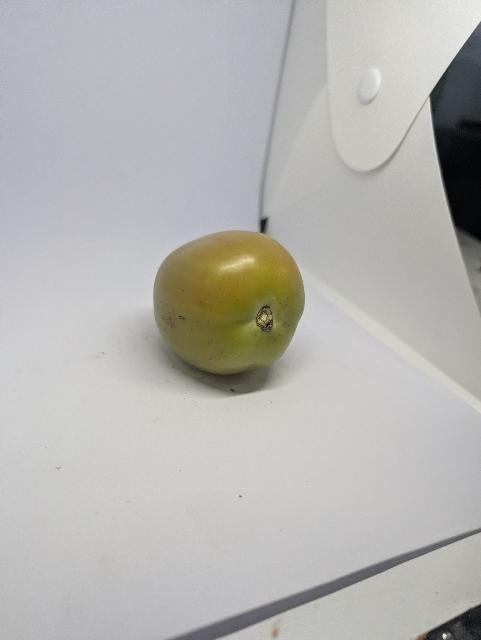breaker: (154, 231, 305, 375)
